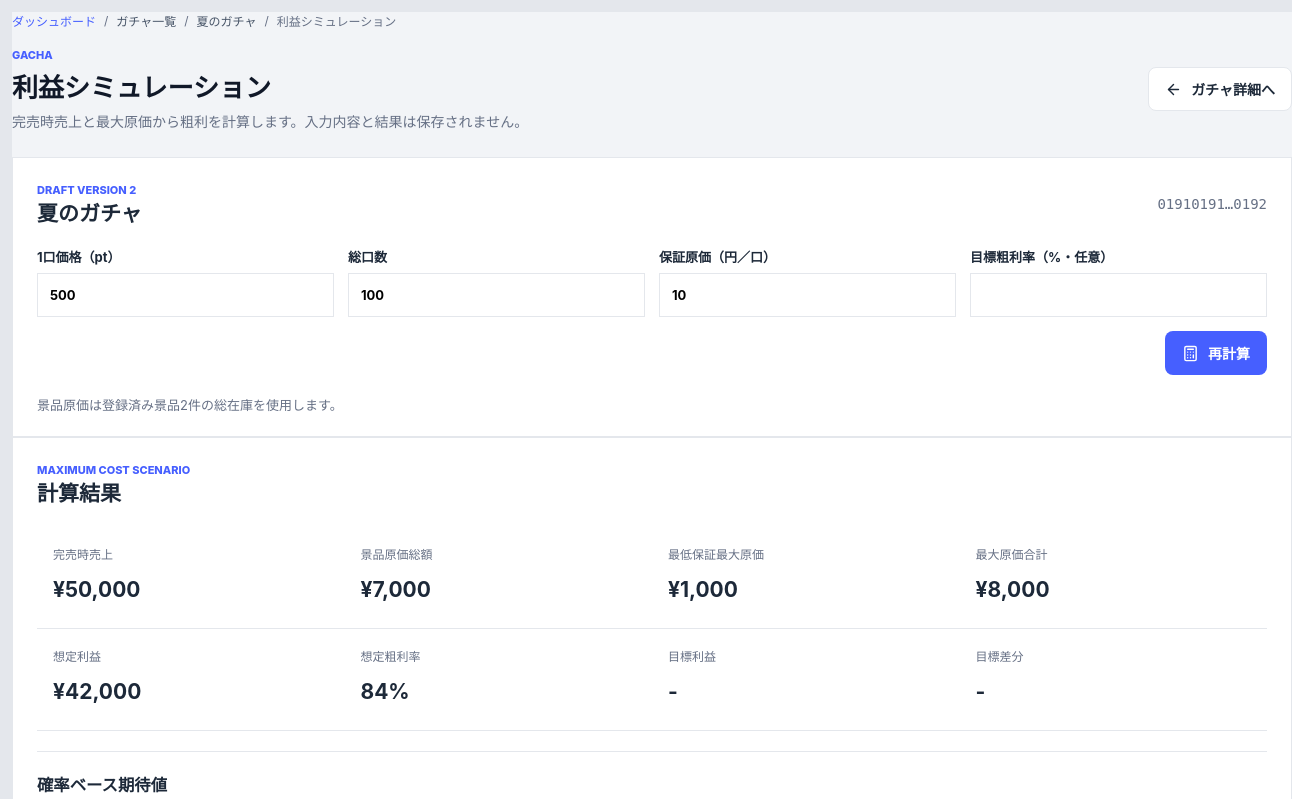
Test: Profit simulation screen › shows field validation without replacing the prior calculation
Expected: the heading "夏のガチャ" is shown, [37, 197, 142, 227]
Replace the text in the number field labelled "総口数" with "0" at (496, 295), box [348, 273, 645, 317]
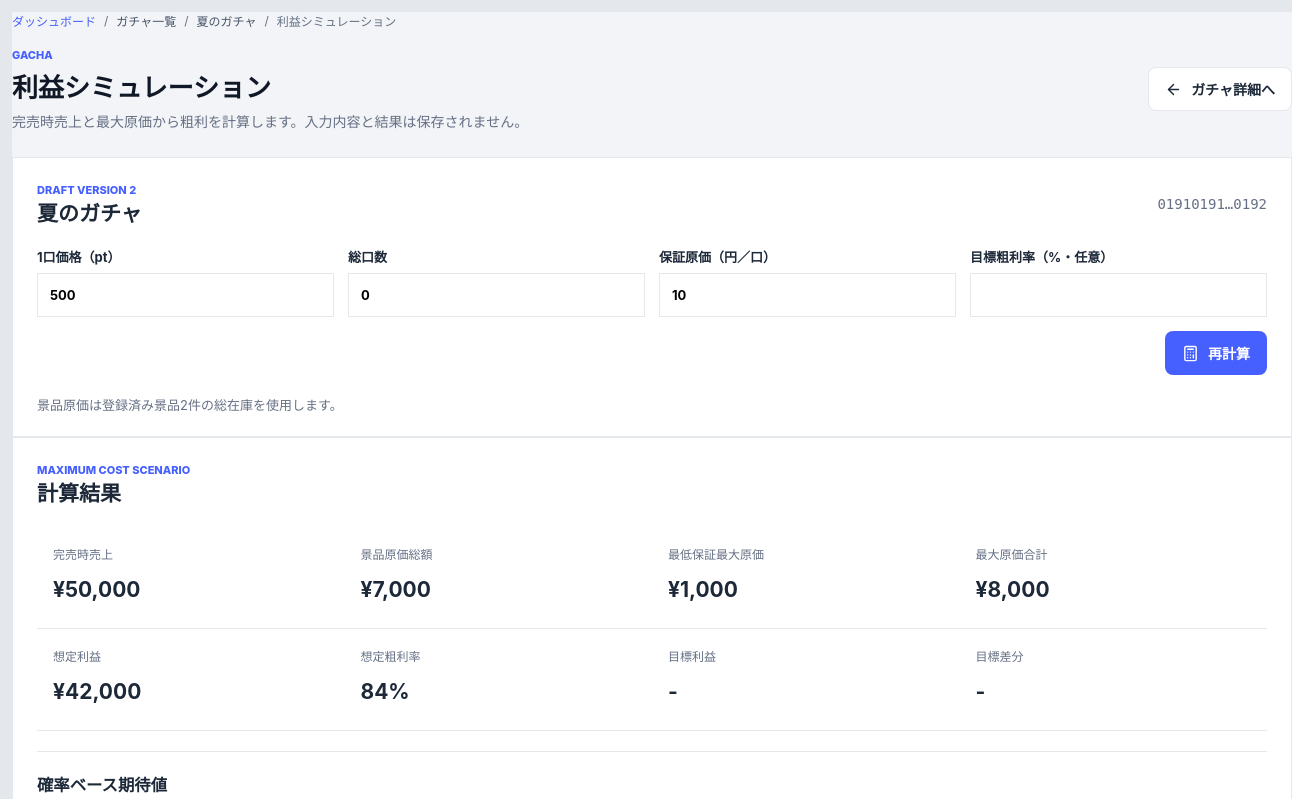
Click the button "再計算".
click(1216, 353)  # box [1165, 331, 1267, 375]
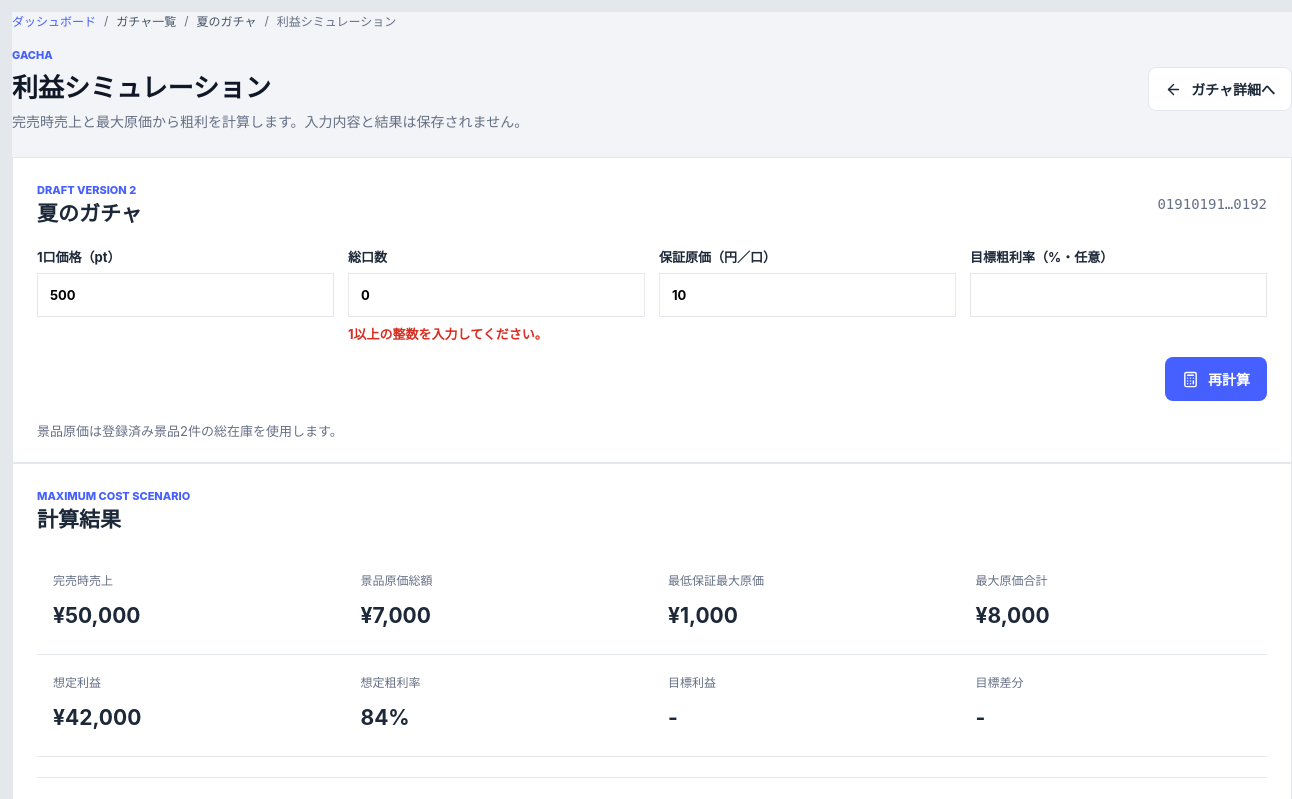
Expected: the text "¥50,000" is shown, [53, 603, 140, 628]
Expected: the text "1以上の整数を入力してください。" is shown, [348, 326, 548, 342]
